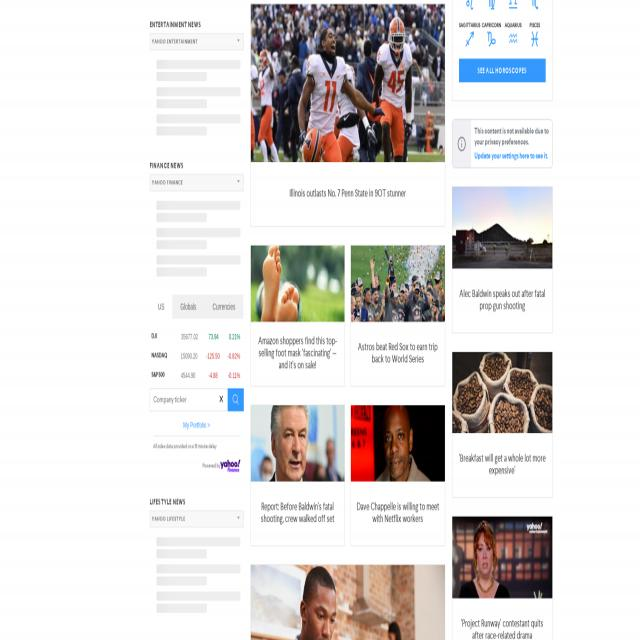button: (251, 5, 445, 226), (250, 564, 445, 640), (452, 187, 552, 332), (452, 352, 552, 497), (351, 405, 445, 548), (251, 405, 344, 547), (351, 245, 445, 385), (251, 246, 344, 386), (452, 516, 552, 640), (459, 59, 545, 82), (204, 294, 243, 319), (172, 295, 205, 319), (150, 295, 172, 319), (227, 388, 243, 412), (502, 31, 524, 47), (524, 31, 546, 47), (459, 31, 481, 47), (480, 31, 502, 47), (220, 460, 240, 472), (502, 0, 524, 10), (524, 0, 546, 10), (459, 0, 481, 10), (480, 0, 502, 10), (458, 137, 466, 151), (219, 393, 224, 406)
field: (150, 388, 228, 411), (150, 510, 243, 528), (150, 174, 243, 191), (150, 34, 243, 50)
